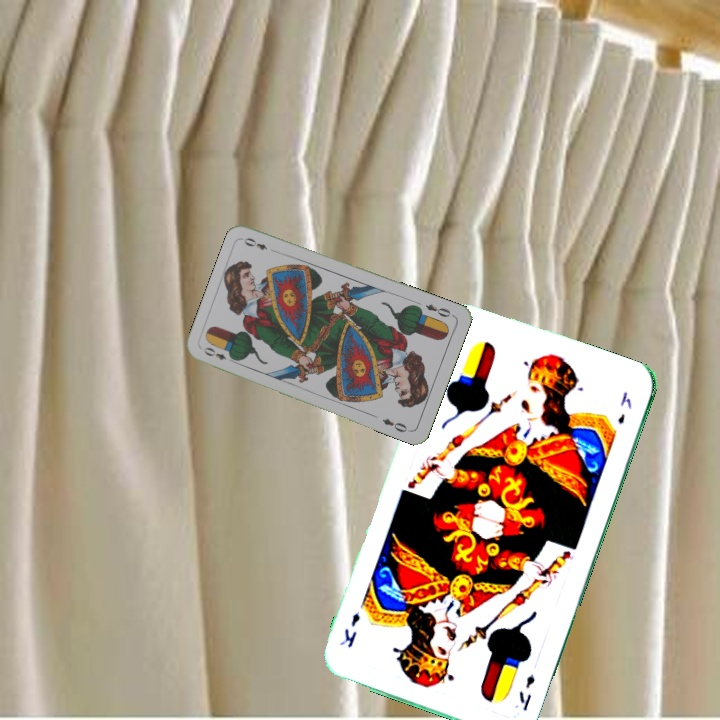EK: (515, 669, 538, 713)
EO: (199, 343, 238, 365), (421, 300, 453, 320)
